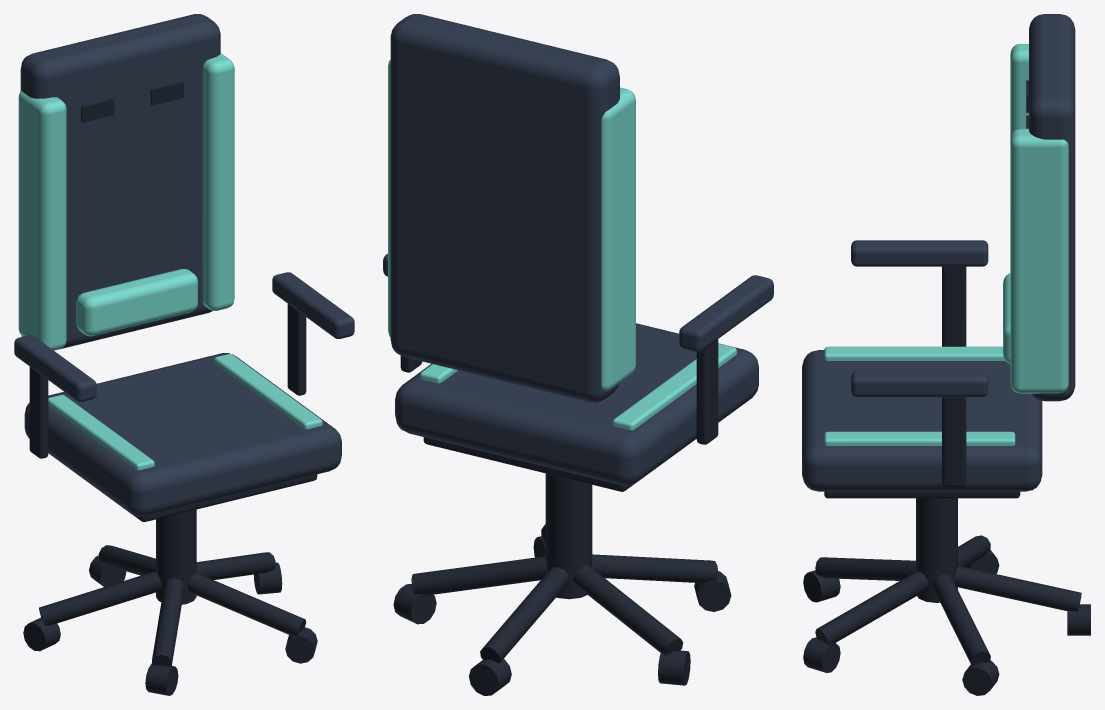
Rendered from chair.gaming.racing.04a7926148.glb.
The picture shows the model from 3 angles, left to right: view 1: azimuth 30°, elevation 25°; view 2: azimuth 150°, elevation 25°; view 3: azimuth 270°, elevation 25°; orthographic projection. The views are drawn at different scales.
Parts seen in each view (by area): view 1: upholstery, accent, frame; view 2: upholstery, frame, accent; view 3: upholstery, frame, accent.
Part boxes in pixels (x1,y1,x2,y2): upholstery: [14, 14, 354, 516]; accent: [18, 53, 322, 470]; frame: [23, 81, 317, 695]; upholstery: [383, 14, 773, 485]; frame: [393, 339, 731, 695]; accent: [388, 60, 736, 430]; upholstery: [802, 14, 1075, 491]; frame: [803, 80, 1090, 695]; accent: [824, 44, 1068, 445].
Size of the model in its own units: 0.68 by 1.3 by 0.589.
